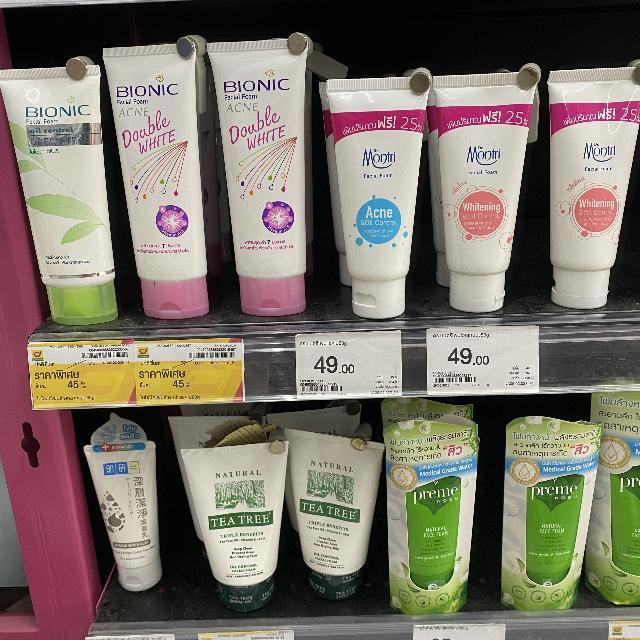Squeeze Tube: (0, 23, 640, 640)
